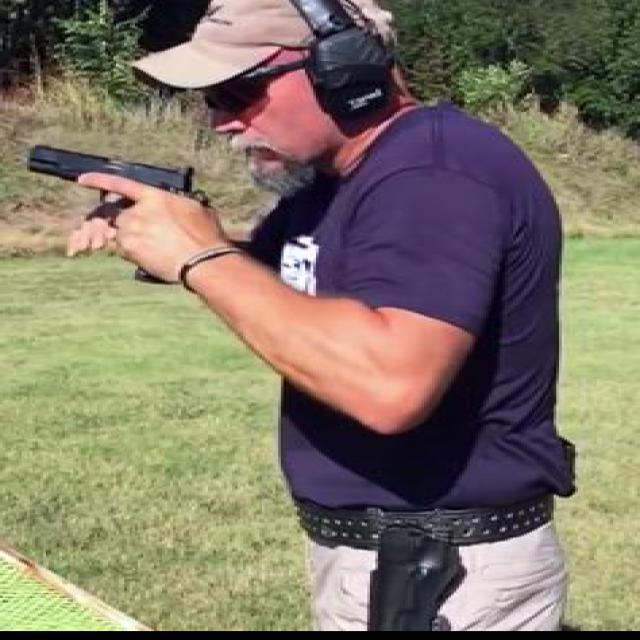Gun: (24, 144, 202, 285)
